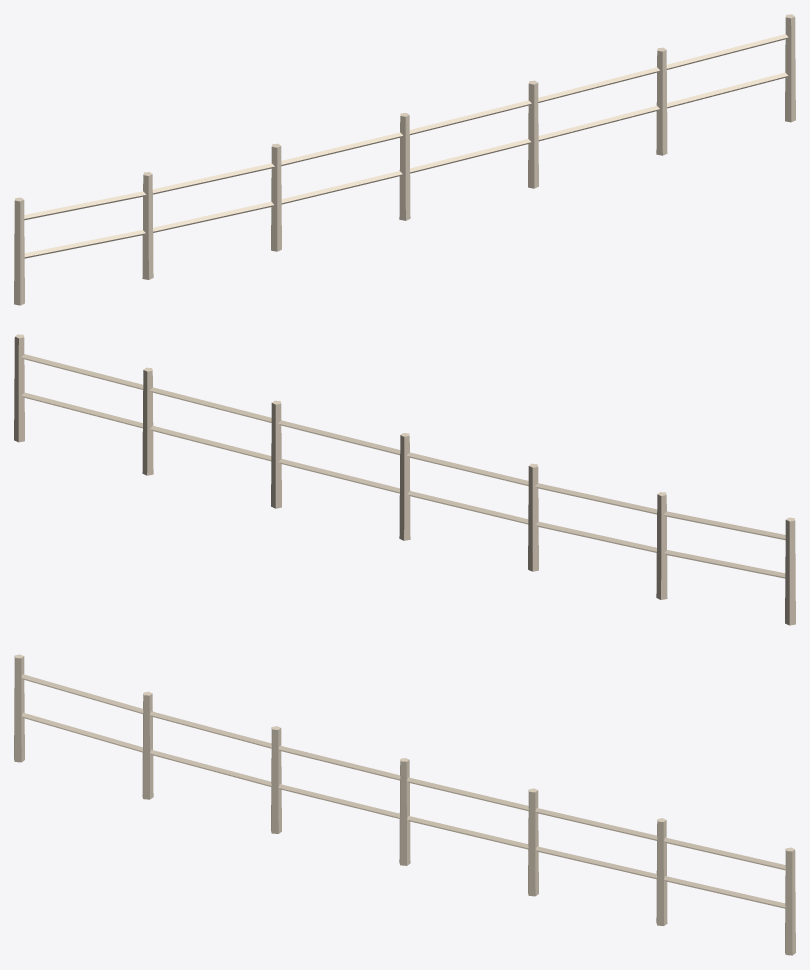
The picture shows the model from 3 angles, top to bottom: view 1: azimuth 30°, elevation 25°; view 2: azimuth 150°, elevation 25°; view 3: azimuth 330°, elevation 25°; orthographic projection.
Parts seen in each view (by area): view 1: WB_fence_113_152; view 2: WB_fence_113_152; view 3: WB_fence_113_152.
Boxes of the visible parts, <box> form: WB_fence_113_152: <box>14,14,795,305</box>; WB_fence_113_152: <box>14,334,795,625</box>; WB_fence_113_152: <box>14,654,795,955</box>.
Bounding box in the file's own units: 10.63 × 1.47 × 0.1331.
